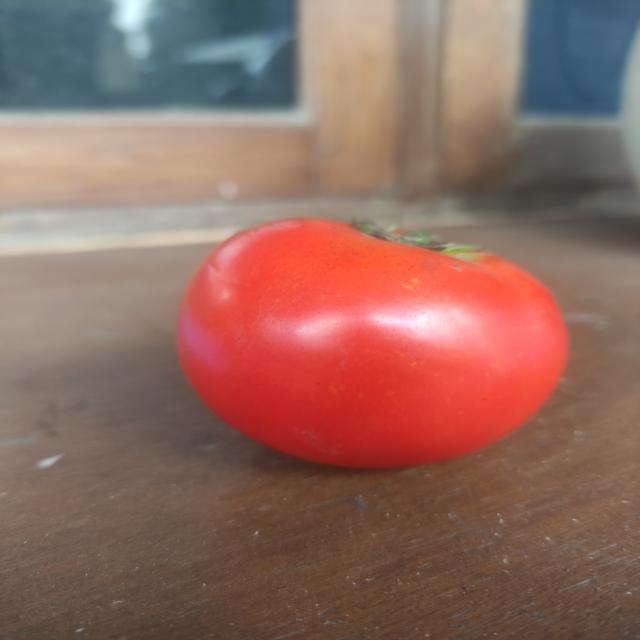ripe tomato: (174, 219, 570, 472)
